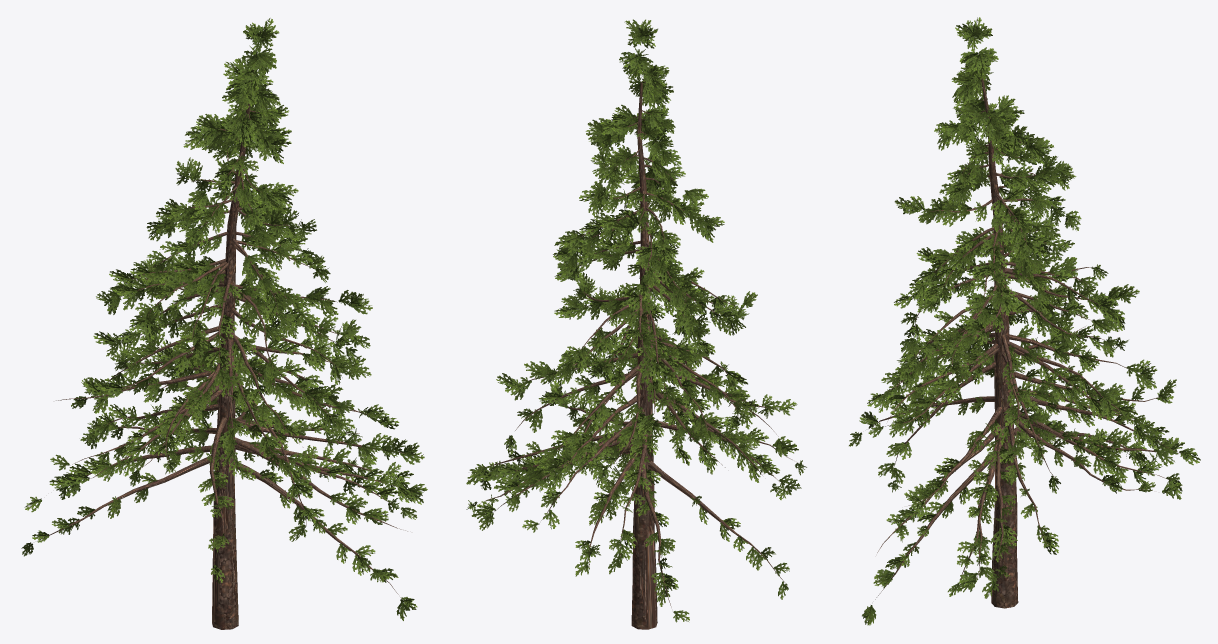
Rendered from tree (8).glb.
3 views of the same model, side by side, from view 1: azimuth 30°, elevation 25°; view 2: azimuth 150°, elevation 25°; view 3: azimuth 270°, elevation 25° (orthographic). The views are drawn at different scales.
Parts seen in each view (by area): view 1: Tree; view 2: Tree; view 3: Tree.
Part boxes in pixels (<box>): Tree: <box>21,18,427,629</box>; Tree: <box>466,19,806,629</box>; Tree: <box>849,17,1200,625</box>.
Bounding box in the file's own units: 31.97 × 51.14 × 28.2.
2 materials, 2 textured.
